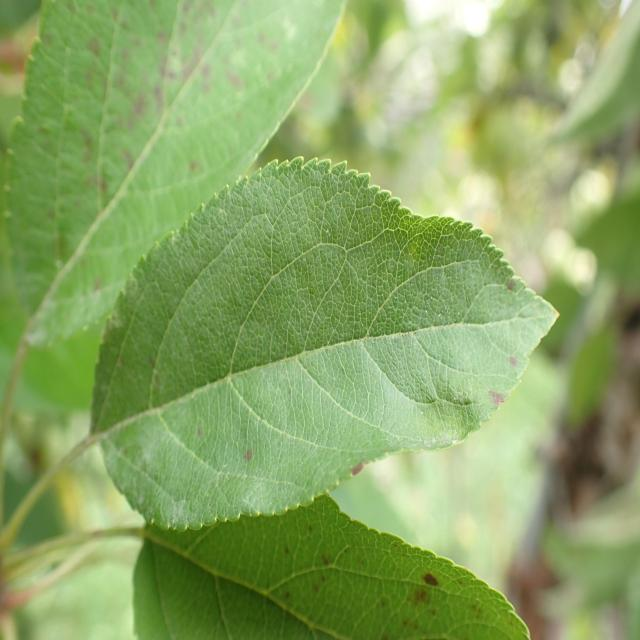scab: (115, 302, 574, 501), (88, 488, 619, 640)
